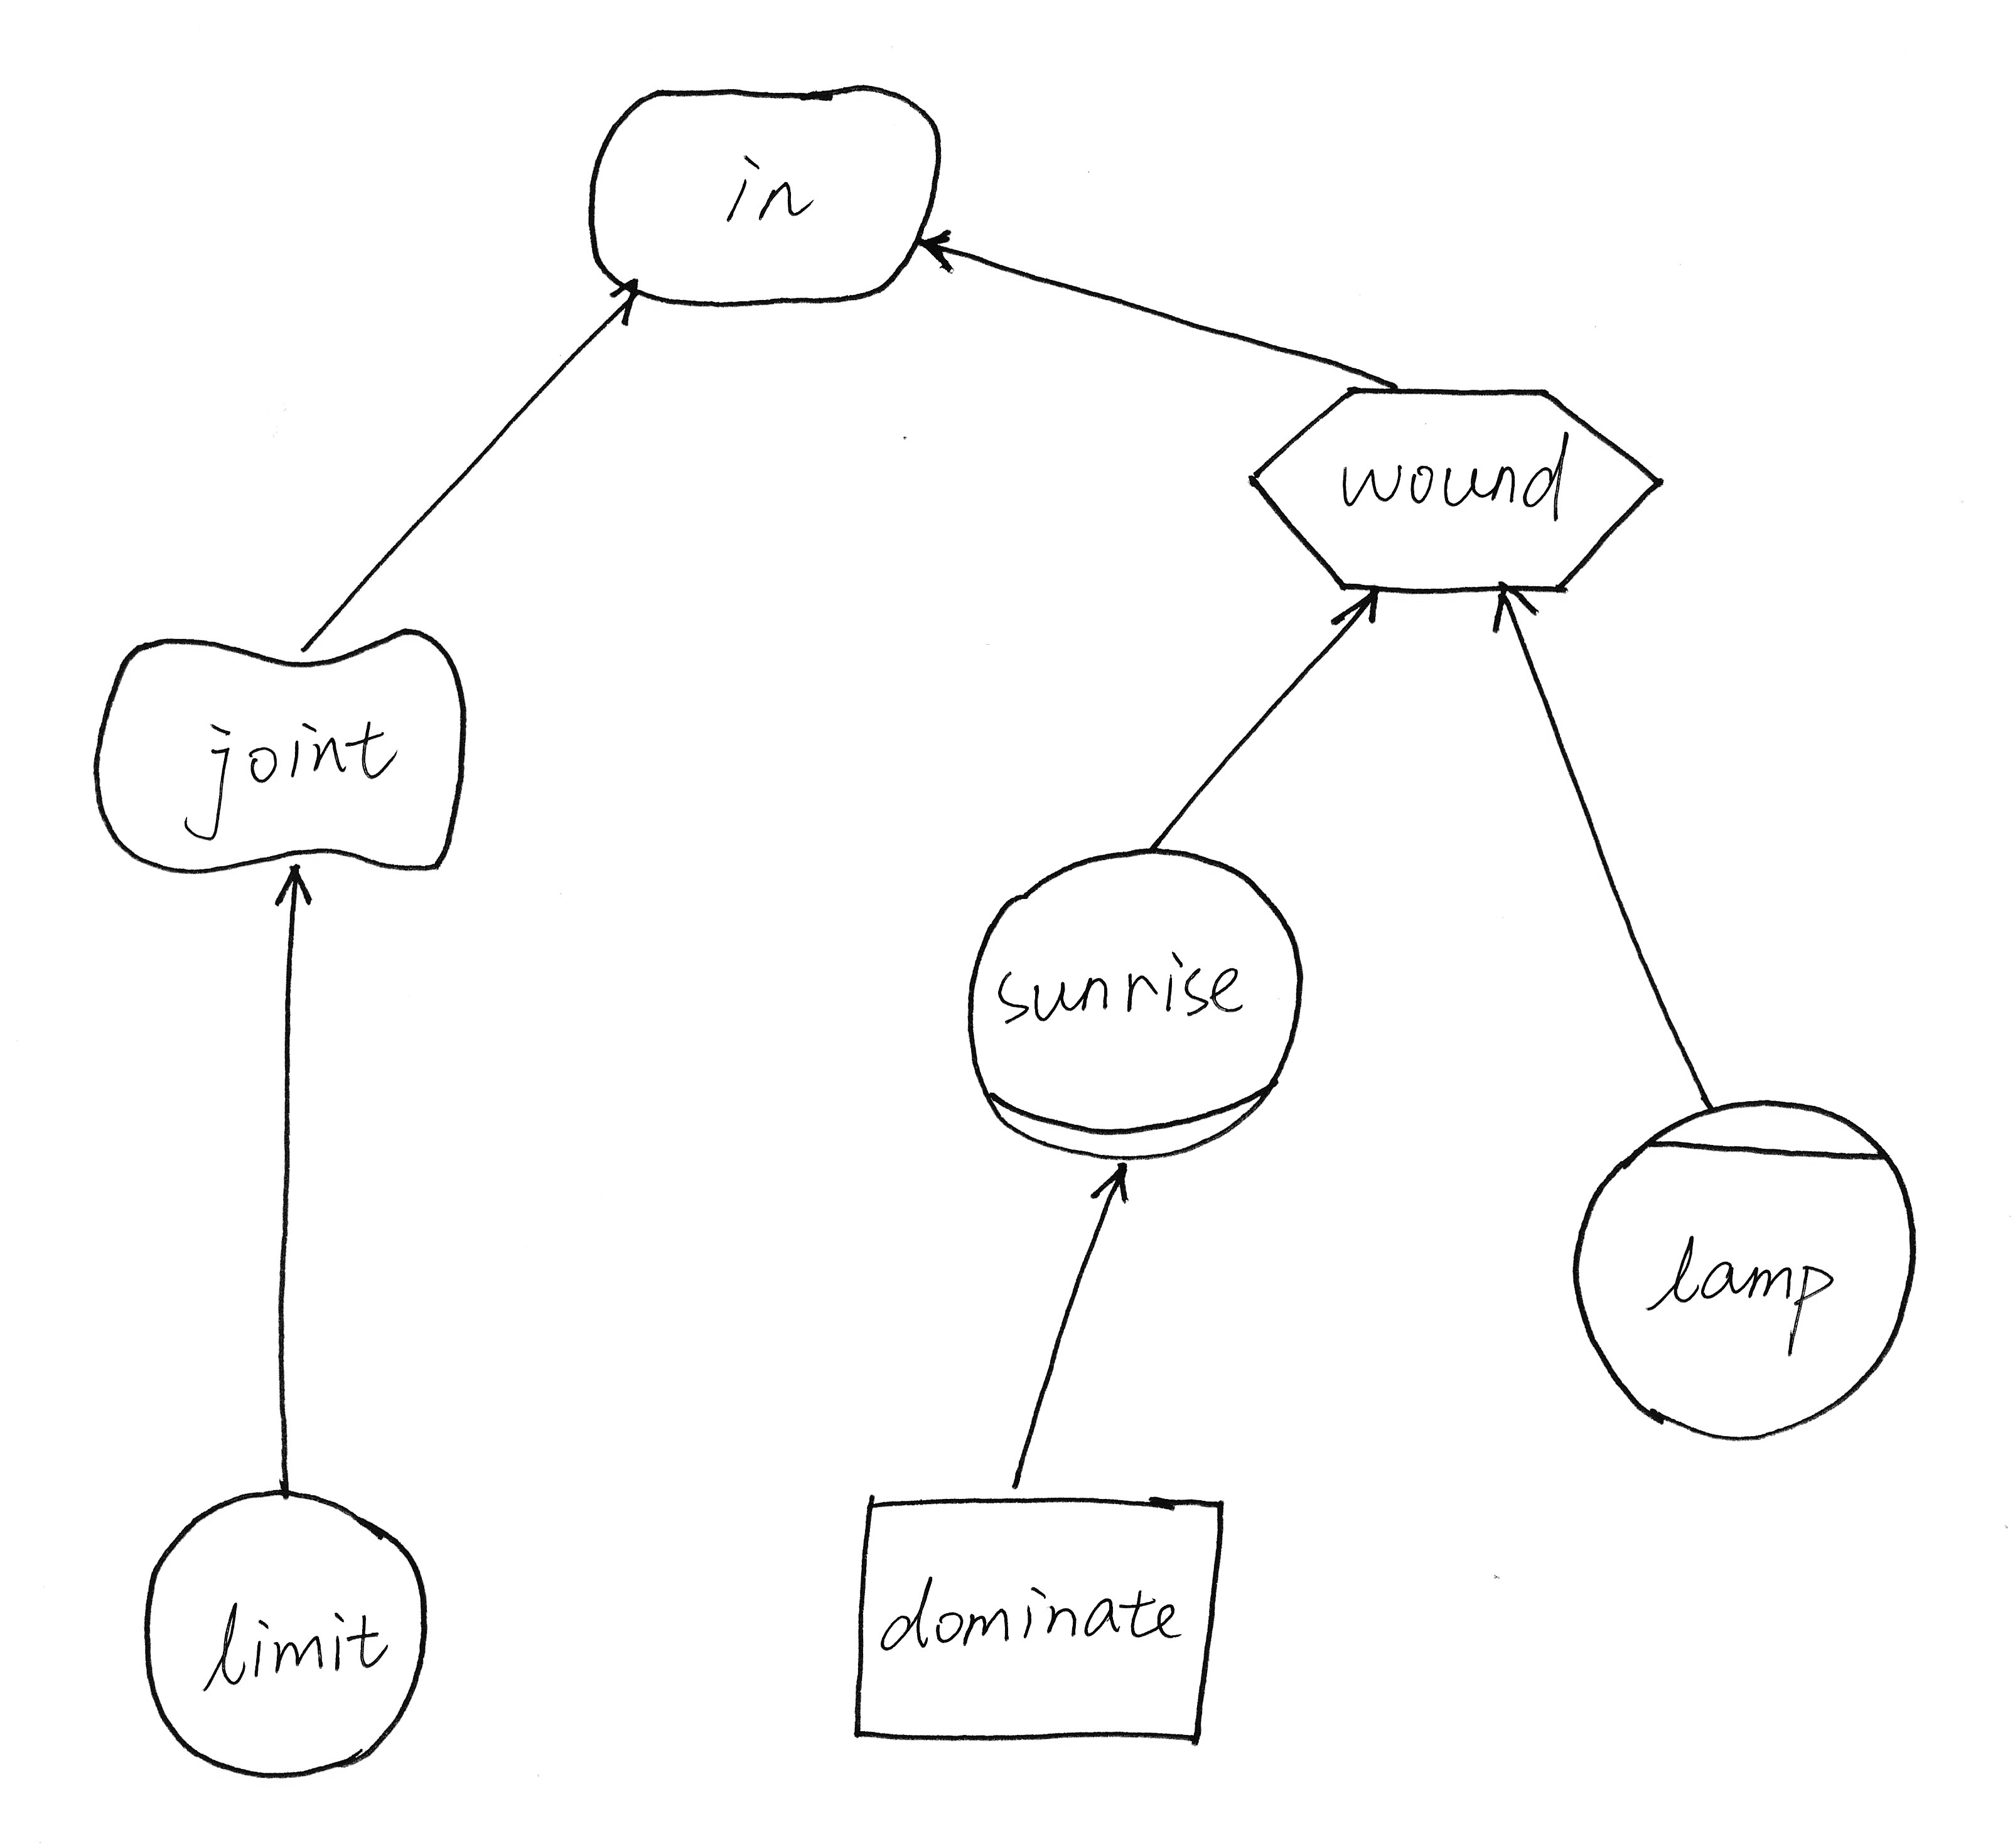actor: (128, 1474, 446, 1790)
agent: (1557, 1083, 1931, 1458)
arrow: (592, 260, 665, 349), (1323, 576, 1404, 653), (260, 853, 333, 932), (899, 214, 974, 284), (1483, 567, 1543, 653), (1074, 1150, 1148, 1214)
goal: (572, 63, 960, 330)
quality: (75, 614, 490, 893)
resource: (835, 1478, 1248, 1764)
role: (946, 832, 1329, 1176)
task: (1232, 367, 1678, 618)
